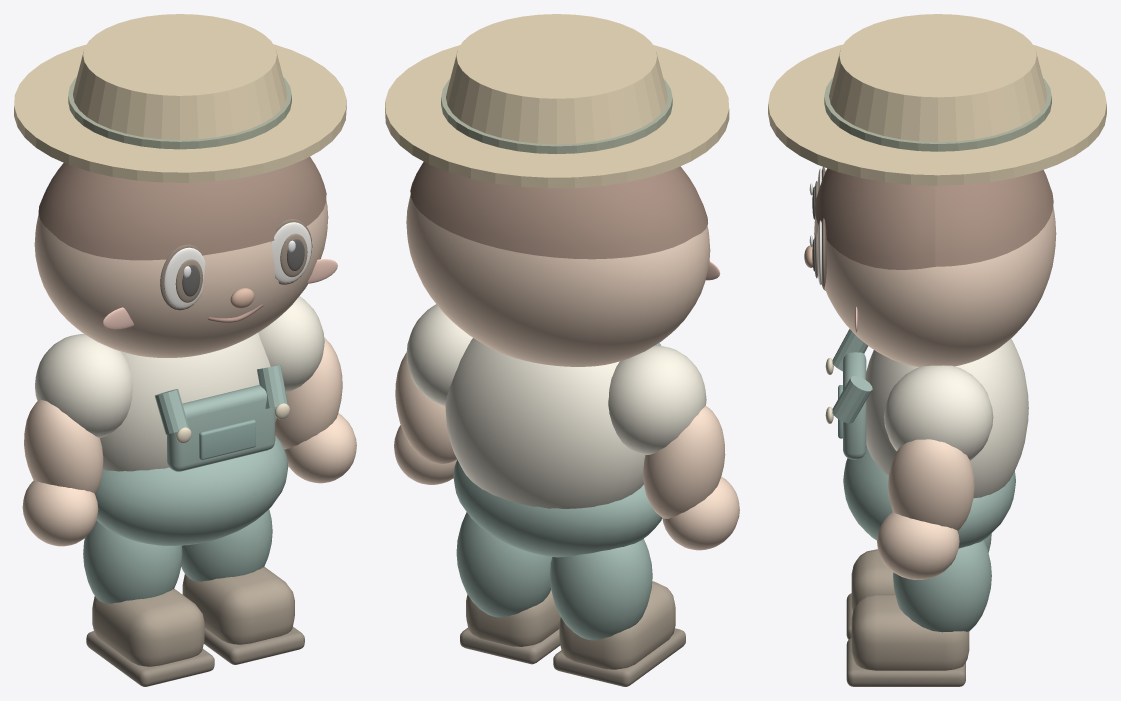
The model's file is gardener-v037.glb.
3 views of the same model, side by side, from view 1: azimuth 30°, elevation 25°; view 2: azimuth 150°, elevation 25°; view 3: azimuth 270°, elevation 25° (orthographic). The views are drawn at different scales.
Parts seen in each view (by area): view 1: Cone, Tête · surface lisse, Cheveux · coque ajustée, Cylinder, Salopette bassin, Torse arrondi, Manche · G, Bottine · G, Bottine · D, Jambe · G, Bras doux · G, Bavette (+14 smaller); view 2: Tête · surface lisse, Torse arrondi, Cone, Cylinder, Cheveux · coque ajustée, Salopette bassin, Manche · G, Jambe · G, Jambe · D, Bras doux · G, Bottine · G, Manche · D (+7 smaller); view 3: Cone, Tête · surface lisse, Cylinder, Cheveux · coque ajustée, Torse arrondi, Manche · D, Bottine · D, Bras doux · D, Jambe · D, Salopette bassin, Main moufle · D, Cylinder.001 (+5 smaller).
Part boxes in pixels (x1=…): Cone: x1=73, y1=14, x2=287, y2=139; Tête · surface lisse: x1=34, y1=201, x2=328, y2=357; Cheveux · coque ajustée: x1=38, y1=156, x2=326, y2=260; Cylinder: x1=14, y1=44, x2=346, y2=182; Salopette bassin: x1=95, y1=435, x2=288, y2=545; Torse arrondi: x1=100, y1=333, x2=276, y2=471; Manche · G: x1=35, y1=334, x2=132, y2=437; Bottine · G: x1=92, y1=588, x2=204, y2=666; Bottine · D: x1=182, y1=567, x2=294, y2=644; Jambe · G: x1=83, y1=520, x2=182, y2=603; Bras doux · G: x1=24, y1=399, x2=103, y2=493; Bavette: x1=167, y1=385, x2=275, y2=471; Tête · surface lisse: x1=406, y1=195, x2=710, y2=366; Torse arrondi: x1=445, y1=338, x2=645, y2=508; Cone: x1=446, y1=14, x2=667, y2=144; Cylinder: x1=385, y1=45, x2=729, y2=188; Cheveux · coque ajustée: x1=410, y1=162, x2=707, y2=259; Salopette bassin: x1=453, y1=459, x2=662, y2=557; Manche · G: x1=608, y1=345, x2=706, y2=454; Jambe · G: x1=550, y1=539, x2=652, y2=640; Jambe · D: x1=456, y1=512, x2=551, y2=617; Bras doux · G: x1=643, y1=405, x2=725, y2=518; Bottine · G: x1=559, y1=581, x2=675, y2=669; Manche · D: x1=406, y1=304, x2=472, y2=405; Cone: x1=829, y1=14, x2=1046, y2=141; Tête · surface lisse: x1=814, y1=206, x2=1056, y2=367; Cylinder: x1=768, y1=44, x2=1106, y2=185; Cheveux · coque ajustée: x1=815, y1=168, x2=1053, y2=269; Torse arrondi: x1=865, y1=338, x2=1028, y2=498; Manche · D: x1=884, y1=365, x2=993, y2=460; Bottine · D: x1=851, y1=594, x2=969, y2=670; Bras doux · D: x1=888, y1=439, x2=974, y2=531; Jambe · D: x1=893, y1=540, x2=991, y2=632; Salopette bassin: x1=843, y1=445, x2=1015, y2=548; Main moufle · D: x1=877, y1=512, x2=959, y2=579; Cylinder.001: x1=824, y1=78, x2=1051, y2=151.
Bounding box in the file's own units: 1.3 × 2.25 × 1.16.
